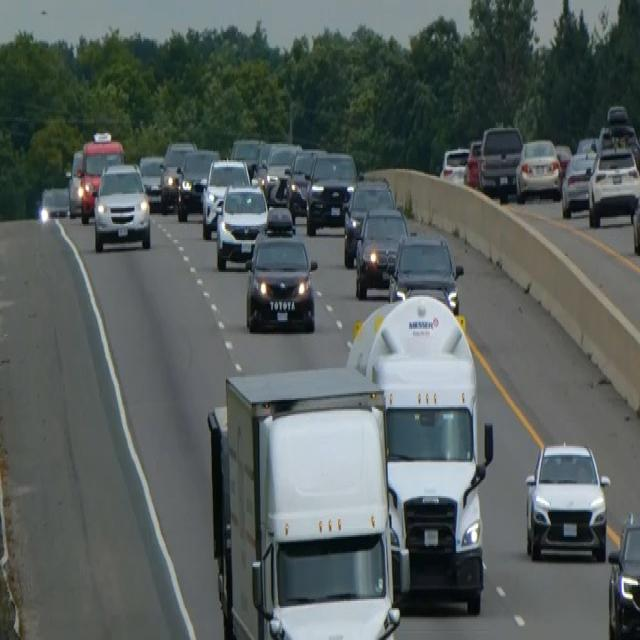car: (524, 439, 610, 562), (244, 231, 317, 333), (387, 231, 463, 315), (93, 160, 151, 251), (354, 204, 408, 297), (343, 176, 395, 267), (215, 183, 268, 270), (305, 149, 358, 235), (587, 144, 639, 226), (607, 510, 639, 638), (79, 132, 124, 222), (201, 156, 250, 238), (478, 122, 522, 196), (175, 147, 219, 220), (514, 137, 561, 203), (286, 146, 327, 217), (159, 138, 196, 212), (560, 149, 595, 217), (263, 142, 300, 196), (597, 122, 639, 162), (230, 135, 264, 178), (138, 153, 164, 208), (65, 148, 83, 215), (38, 185, 69, 222), (439, 146, 469, 183), (266, 169, 292, 208), (463, 138, 482, 186), (252, 140, 272, 185), (554, 142, 572, 187), (631, 183, 639, 256), (605, 102, 628, 125)
lorry: (206, 363, 402, 638), (349, 292, 494, 614)
